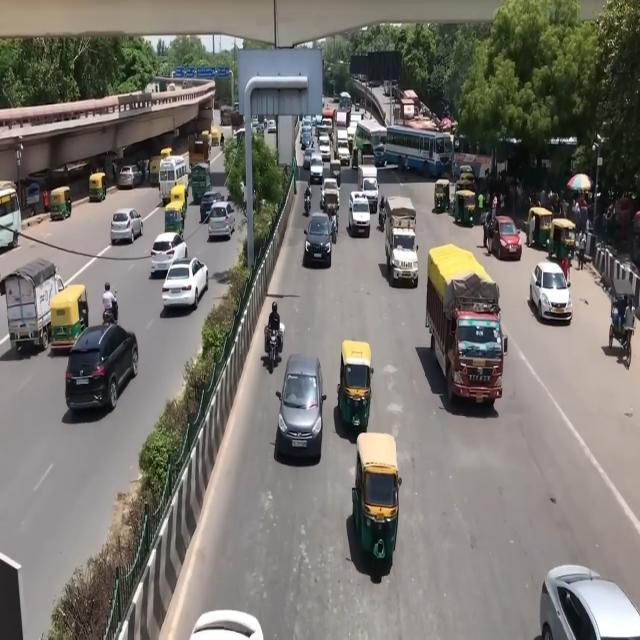auto: (353, 428, 409, 628), (332, 326, 381, 459), (48, 279, 90, 354), (527, 197, 554, 257), (552, 208, 577, 270), (46, 183, 76, 232), (162, 198, 189, 246), (451, 185, 478, 232), (431, 175, 454, 228), (85, 166, 109, 206), (169, 183, 194, 219), (299, 180, 317, 223)
bike-auto: (95, 273, 128, 343), (267, 286, 282, 391), (298, 183, 318, 223), (328, 204, 344, 248), (379, 190, 386, 236)
